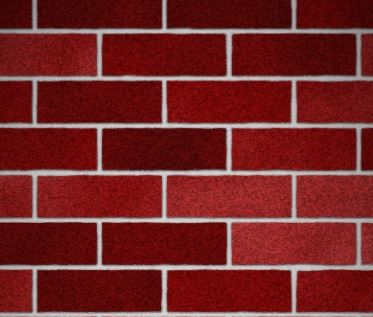brick: (230, 125, 357, 173), (99, 30, 228, 77), (165, 78, 294, 125), (35, 268, 162, 315), (99, 220, 227, 266), (229, 32, 358, 77), (228, 221, 357, 266), (36, 78, 164, 123), (165, 268, 293, 312), (100, 126, 226, 170), (166, 173, 291, 217), (35, 174, 163, 216), (1, 31, 100, 77), (1, 126, 97, 172), (1, 220, 98, 265), (36, 1, 165, 29), (295, 79, 373, 125), (297, 173, 373, 218), (295, 270, 373, 313), (165, 1, 293, 27), (295, 1, 372, 30), (1, 79, 36, 124), (1, 173, 34, 218), (1, 267, 33, 313), (1, 1, 32, 28)
